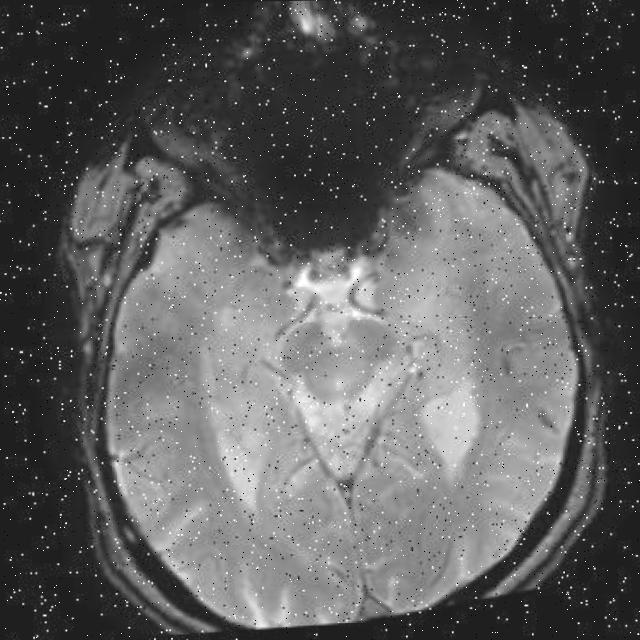EMCI: (404, 368, 508, 478), (184, 405, 270, 524)
